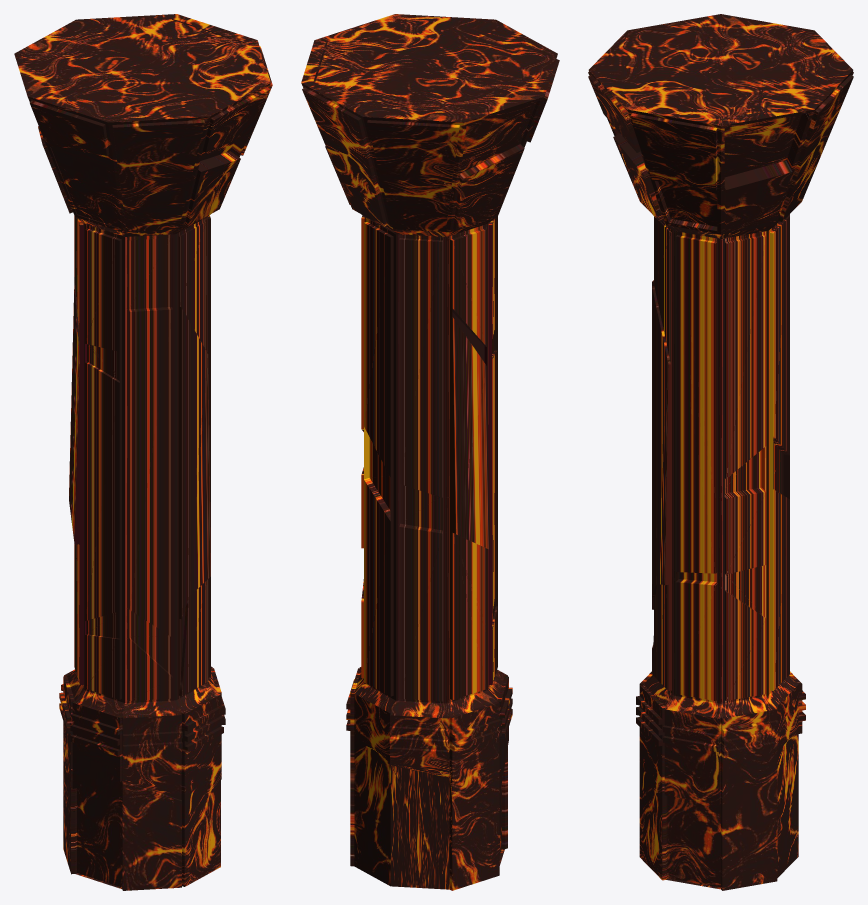
Rendered from Pillar_WoodCursedx.gltf.
3 views of the same model, side by side, from view 1: azimuth 30°, elevation 25°; view 2: azimuth 150°, elevation 25°; view 3: azimuth 270°, elevation 25° (orthographic).
Parts seen in each view (by area): view 1: body, top; view 2: body, top; view 3: body, top.
Part boxes in pixels (x1,y1,x2,y2): body: (59, 215, 225, 890); top: (14, 14, 272, 236); body: (346, 215, 512, 890); top: (301, 14, 559, 236); body: (636, 214, 805, 890); top: (588, 14, 853, 238).
Size of the model in its own units: 3.42 by 11.17 by 3.42.
Materials: 1 (1 with a texture image).
